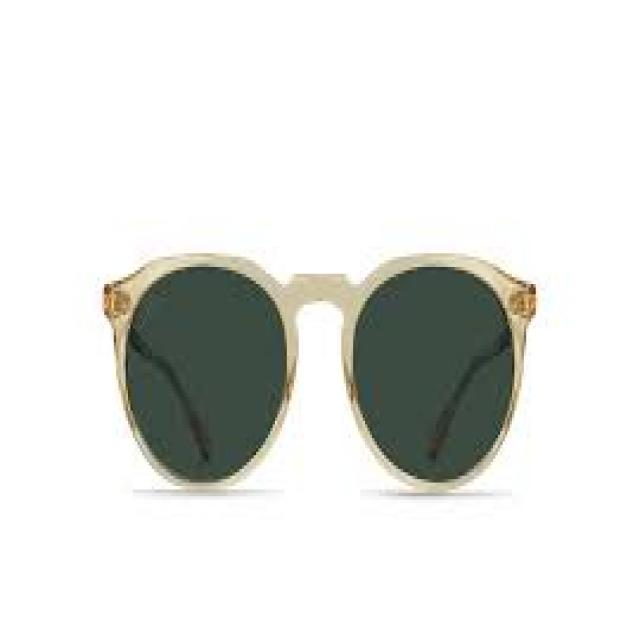suspicious-objects: (98, 231, 540, 491)
